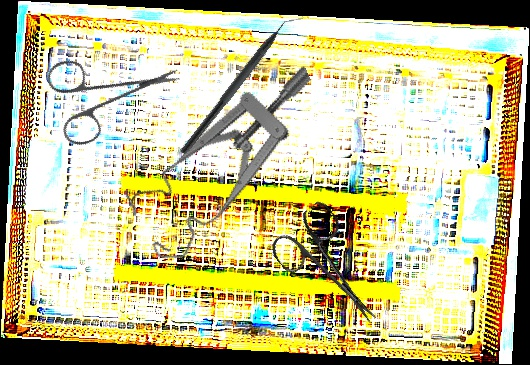Chopper: (179, 5, 306, 164)
Iris Scissors: (23, 14, 184, 175), (264, 198, 403, 343)
Speculum: (104, 63, 356, 270)
